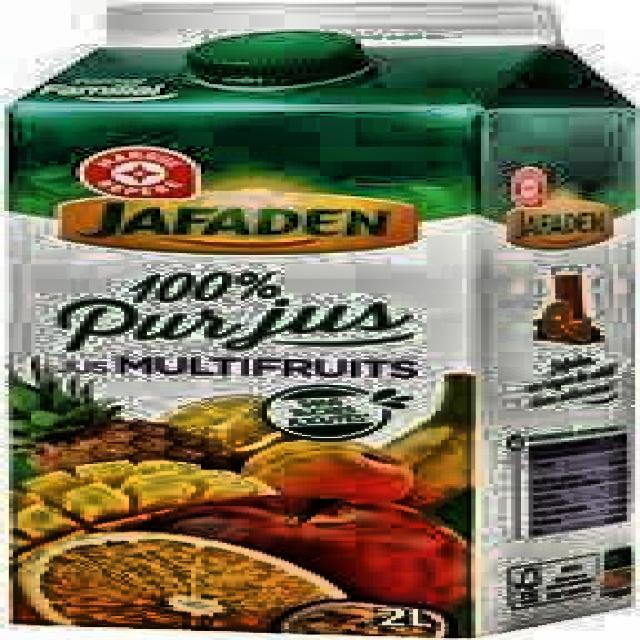cardboard: (0, 0, 635, 636)
